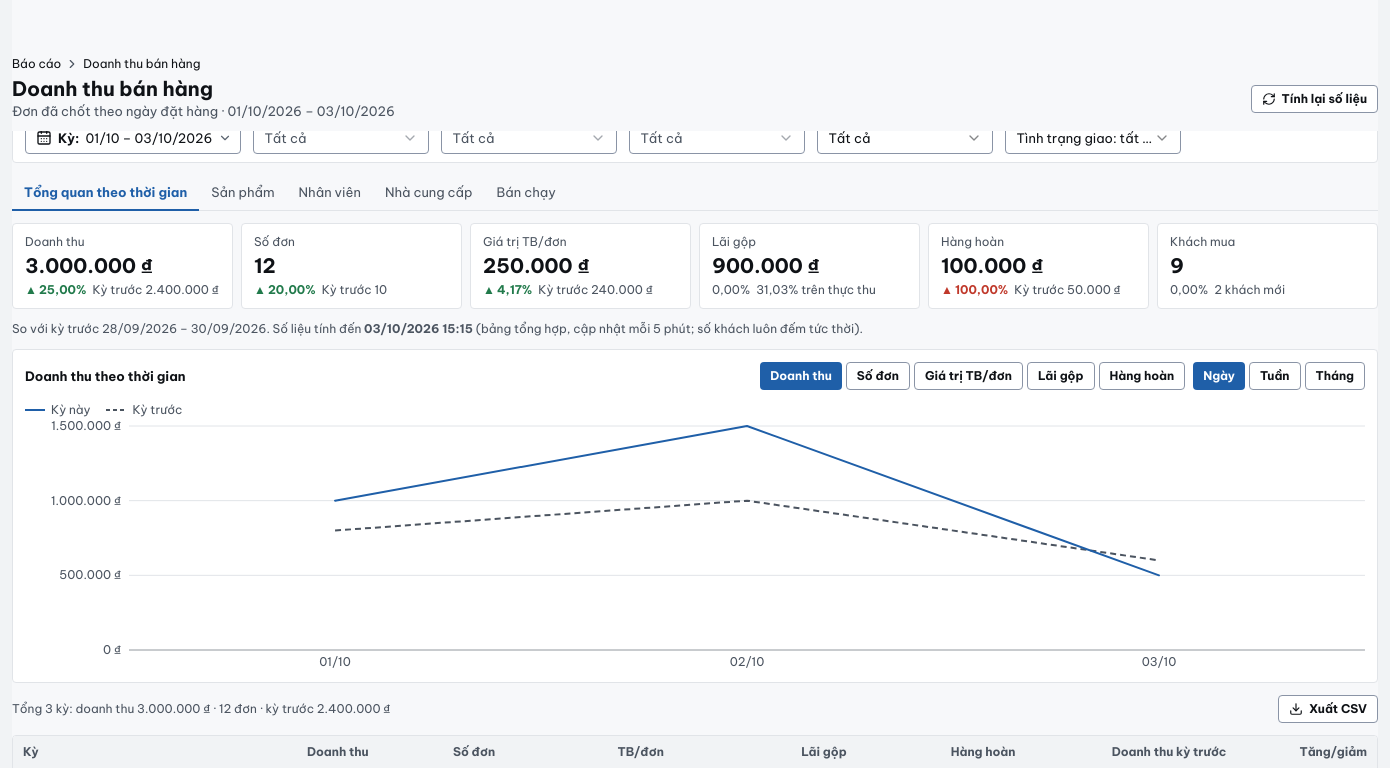
it: Tab Tổng quan theo thời gian › hover điểm biểu đồ → tooltip kỳ này / kỳ trước
This screenshot has width=1390, height=768.
Expected: the heading "Doanh thu theo thời gian" is shown, [25,366,186,386]
Hover over the 2nd element with test id "chart-hit" at (747, 538), box [541,426,953,650]
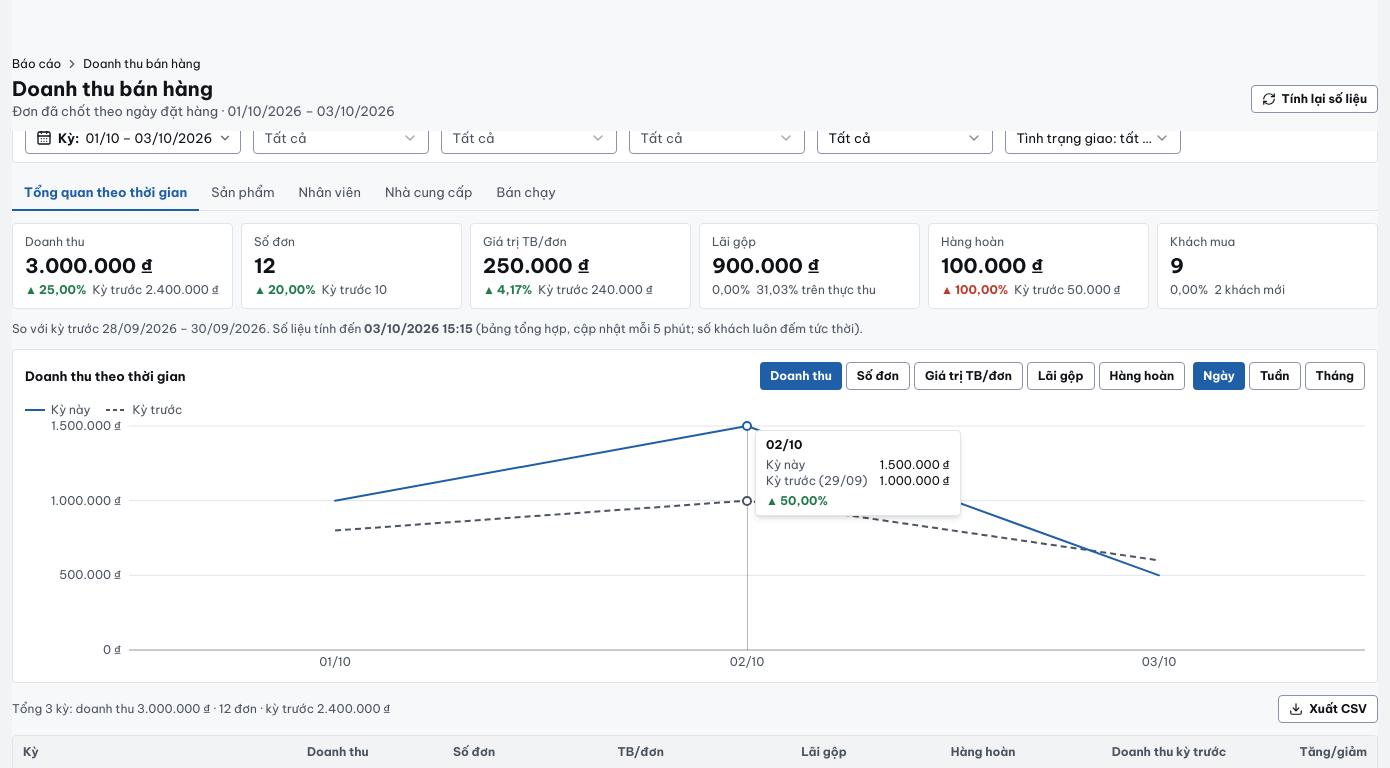
Now the text "Kỳ trước (29/09)" is shown, box [766,473,868,489]
Now the 2nd text "1.500.000 ₫" is shown, box [880,457,950,473]
